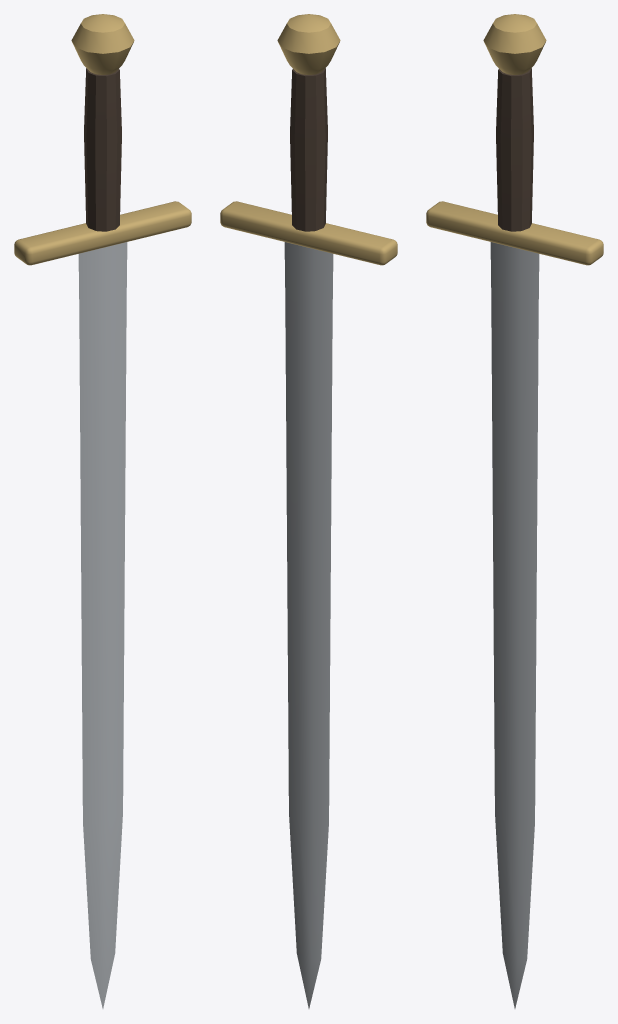
File: sword.glb
The picture shows the model from 3 angles, left to right: view 1: azimuth 30°, elevation 25°; view 2: azimuth 150°, elevation 25°; view 3: azimuth 330°, elevation 25°; orthographic projection.
Parts seen in each view (by area): view 1: sword; view 2: sword; view 3: sword.
Part boxes in pixels (x1=…): sword: x1=14, y1=14, x2=191, y2=1008; sword: x1=220, y1=14, x2=397, y2=1008; sword: x1=426, y1=14, x2=603, y2=1008.
Size of the model in its own units: 0.17 by 0.9727 by 0.056.
